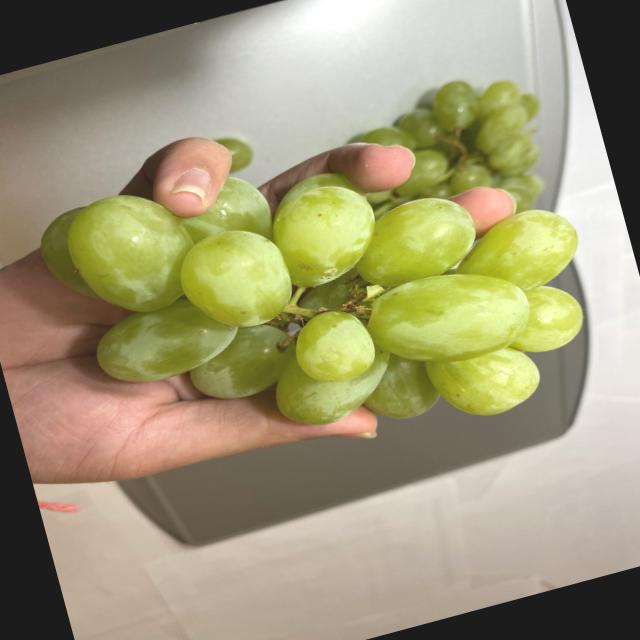grapes: (28, 72, 622, 522)
